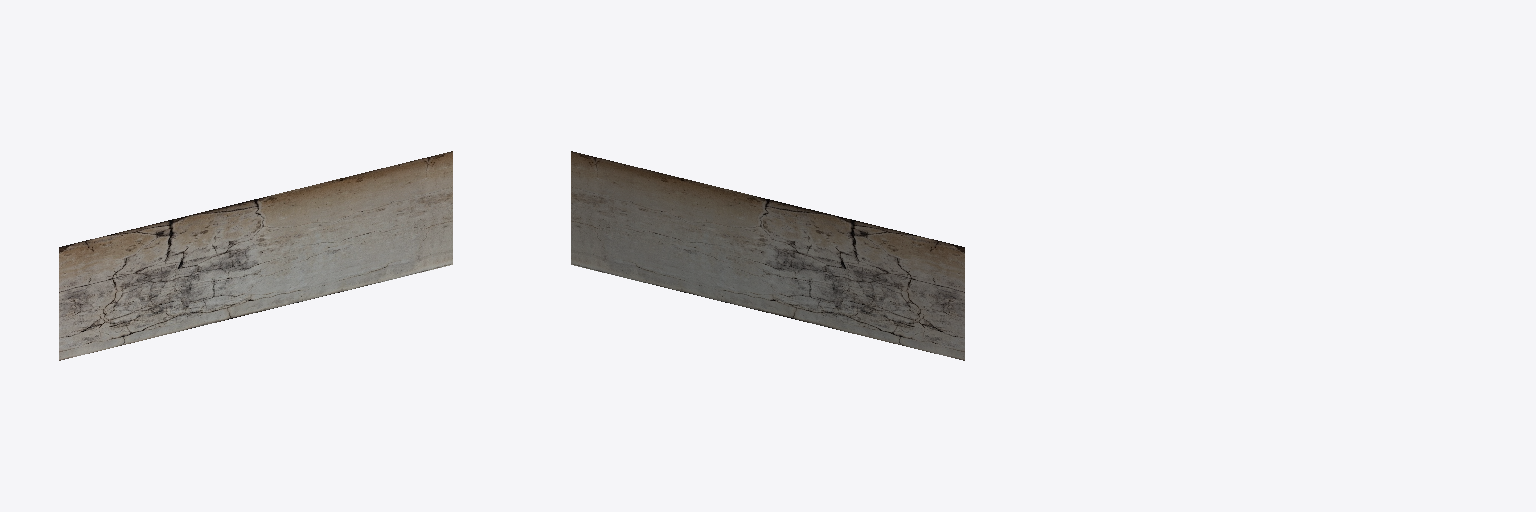
3 views of the same model, side by side, from view 1: azimuth 30°, elevation 25°; view 2: azimuth 150°, elevation 25°; view 3: azimuth 270°, elevation 25° (orthographic).
Parts seen in each view (by area): view 1: Mesh_wall4; view 2: Mesh_wall4; view 3: none.
Boxes of the visible parts, <box> form: Mesh_wall4: <box>59,151,452,360</box>; Mesh_wall4: <box>571,151,964,360</box>.
Size of the model in its own units: 10.85 by 3 by 0.
Materials: 1 (1 with a texture image).